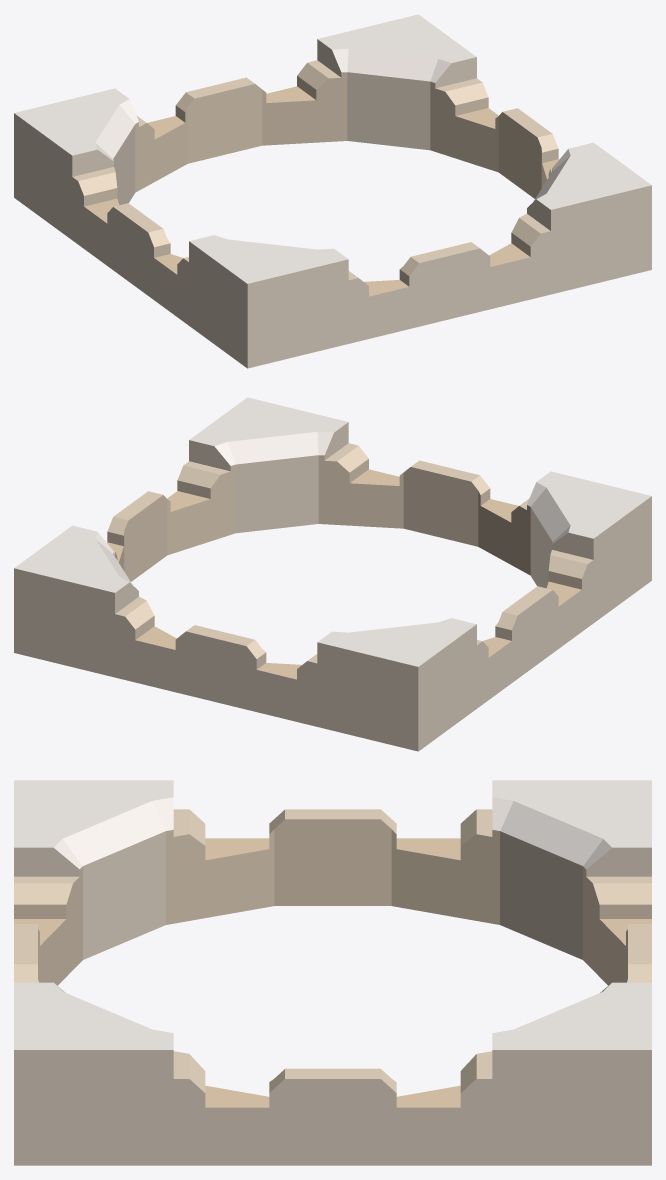
The model's file is Puzzle_Track_Rotating_Housing_Cross.glb.
The picture shows the model from 3 angles, top to bottom: view 1: azimuth 30°, elevation 25°; view 2: azimuth 150°, elevation 25°; view 3: azimuth 270°, elevation 25°; orthographic projection. The views are drawn at different scales.
Visible parts, largest first — view 1: Puzzle_Track_Rotating_Housing_Cross; view 2: Puzzle_Track_Rotating_Housing_Cross; view 3: Puzzle_Track_Rotating_Housing_Cross.
Part boxes in pixels (x1=…): Puzzle_Track_Rotating_Housing_Cross: x1=14, y1=14, x2=651, y2=368; Puzzle_Track_Rotating_Housing_Cross: x1=14, y1=397, x2=651, y2=751; Puzzle_Track_Rotating_Housing_Cross: x1=14, y1=780, x2=651, y2=1165.
Size of the model in its own units: 1 by 0.2 by 1.
